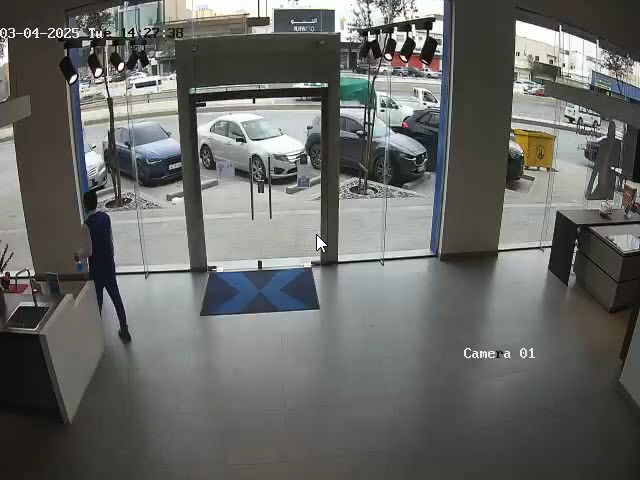employee: (79, 190, 132, 344)
